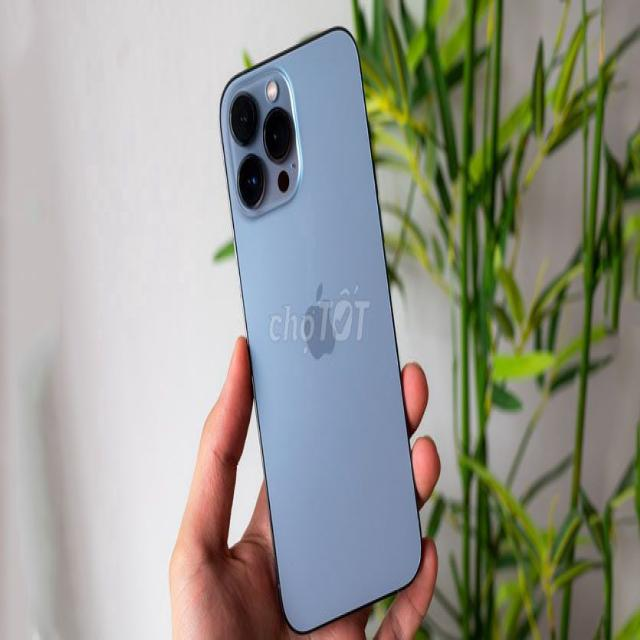gen_12_13: (220, 27, 420, 635)
